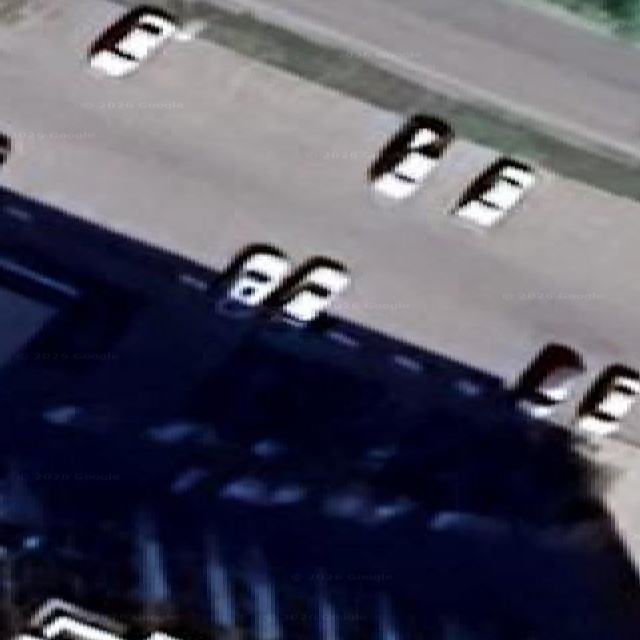car: (368, 116, 452, 199), (88, 5, 176, 75), (452, 159, 535, 227), (513, 344, 584, 416), (576, 364, 639, 436), (16, 597, 124, 639), (279, 260, 348, 324), (227, 248, 289, 306), (20, 535, 42, 552), (0, 132, 9, 164)
